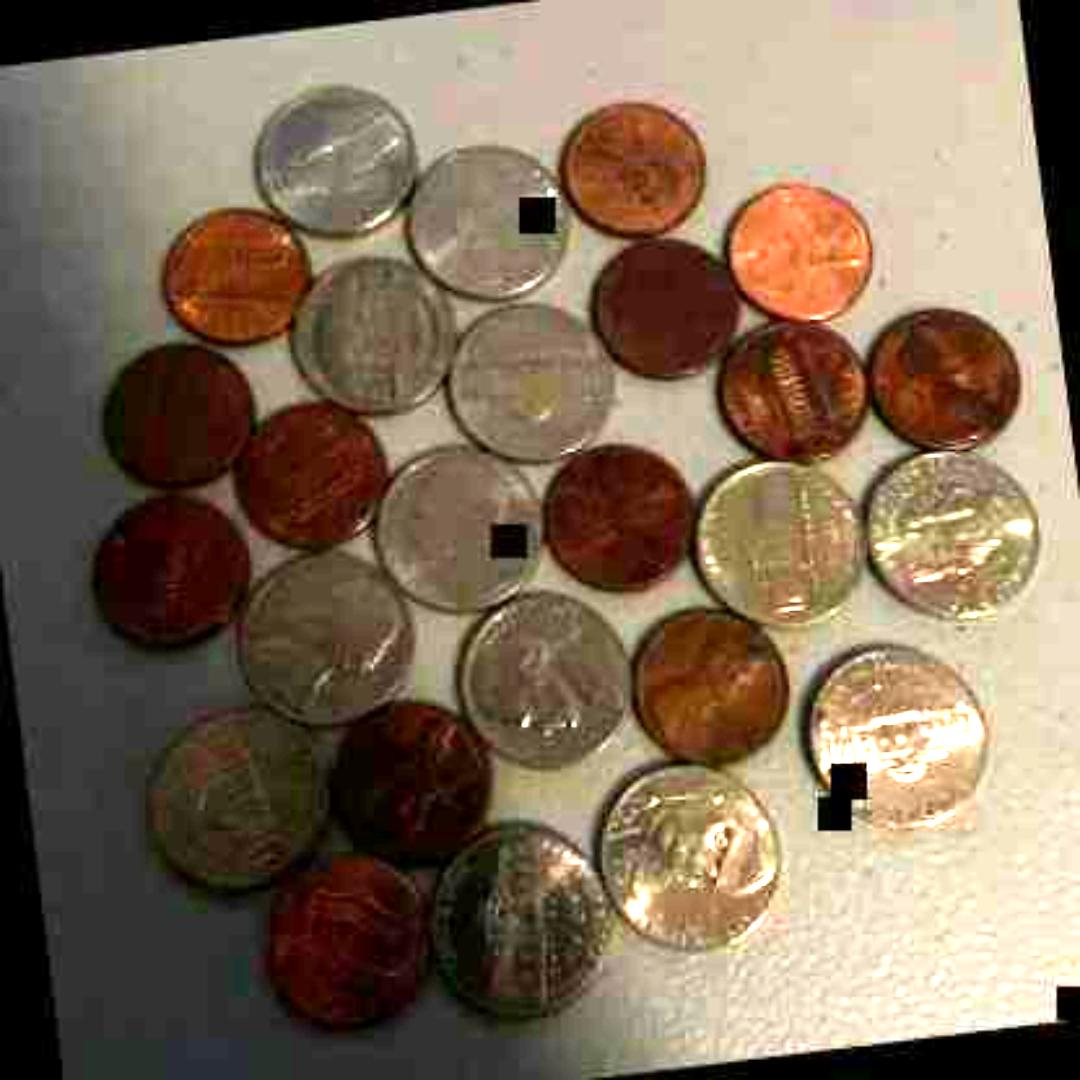Nickel: (587, 744, 797, 962), (418, 811, 620, 1029), (131, 690, 341, 892), (793, 624, 995, 830), (850, 429, 1052, 626), (442, 580, 644, 777), (222, 535, 424, 727), (365, 426, 559, 618), (435, 282, 627, 474), (683, 443, 875, 635), (282, 238, 466, 422), (400, 128, 584, 300), (250, 69, 428, 242)
Penny: (250, 836, 432, 1030), (79, 476, 263, 656), (618, 590, 802, 770), (320, 687, 498, 871), (223, 384, 396, 558), (530, 429, 708, 597), (704, 300, 878, 468), (862, 292, 1034, 454), (89, 328, 260, 488), (580, 222, 746, 382), (715, 166, 881, 324), (549, 87, 715, 237), (149, 191, 315, 341)
